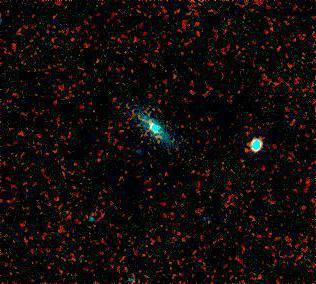star: (94, 76, 124, 106)
